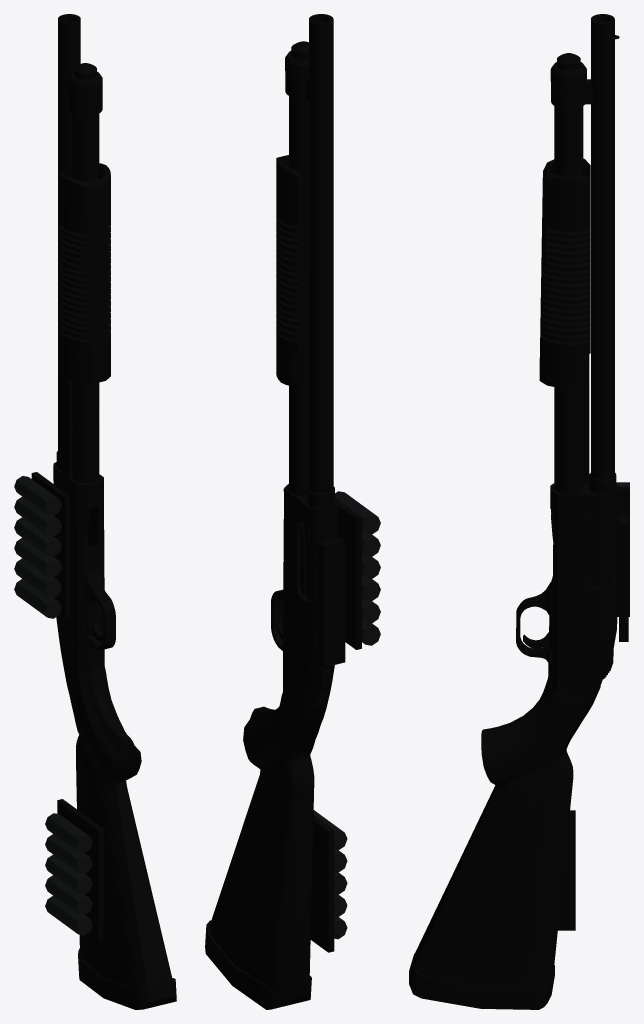
The model's file is M590__Mount_ScopeBase__ShellHolder_Butt__Sidesaddle_Shotgun.fbx.
3 views of the same model, side by side, from view 1: azimuth 30°, elevation 25°; view 2: azimuth 210°, elevation 25°; view 3: azimuth 270°, elevation 25° (orthographic). The views are drawn at different scales.
Parts seen in each view (by area): view 1: asset_M590.001; view 2: asset_M590.001; view 3: asset_M590.001.
Boxes of the visible parts, x1,y1,x2,y2 form: asset_M590.001: (14,14,176,1009); asset_M590.001: (205,14,380,1009); asset_M590.001: (409,14,629,1009).
Bounding box in the file's own units: 0.0447 × 0.6 × 0.1224.
